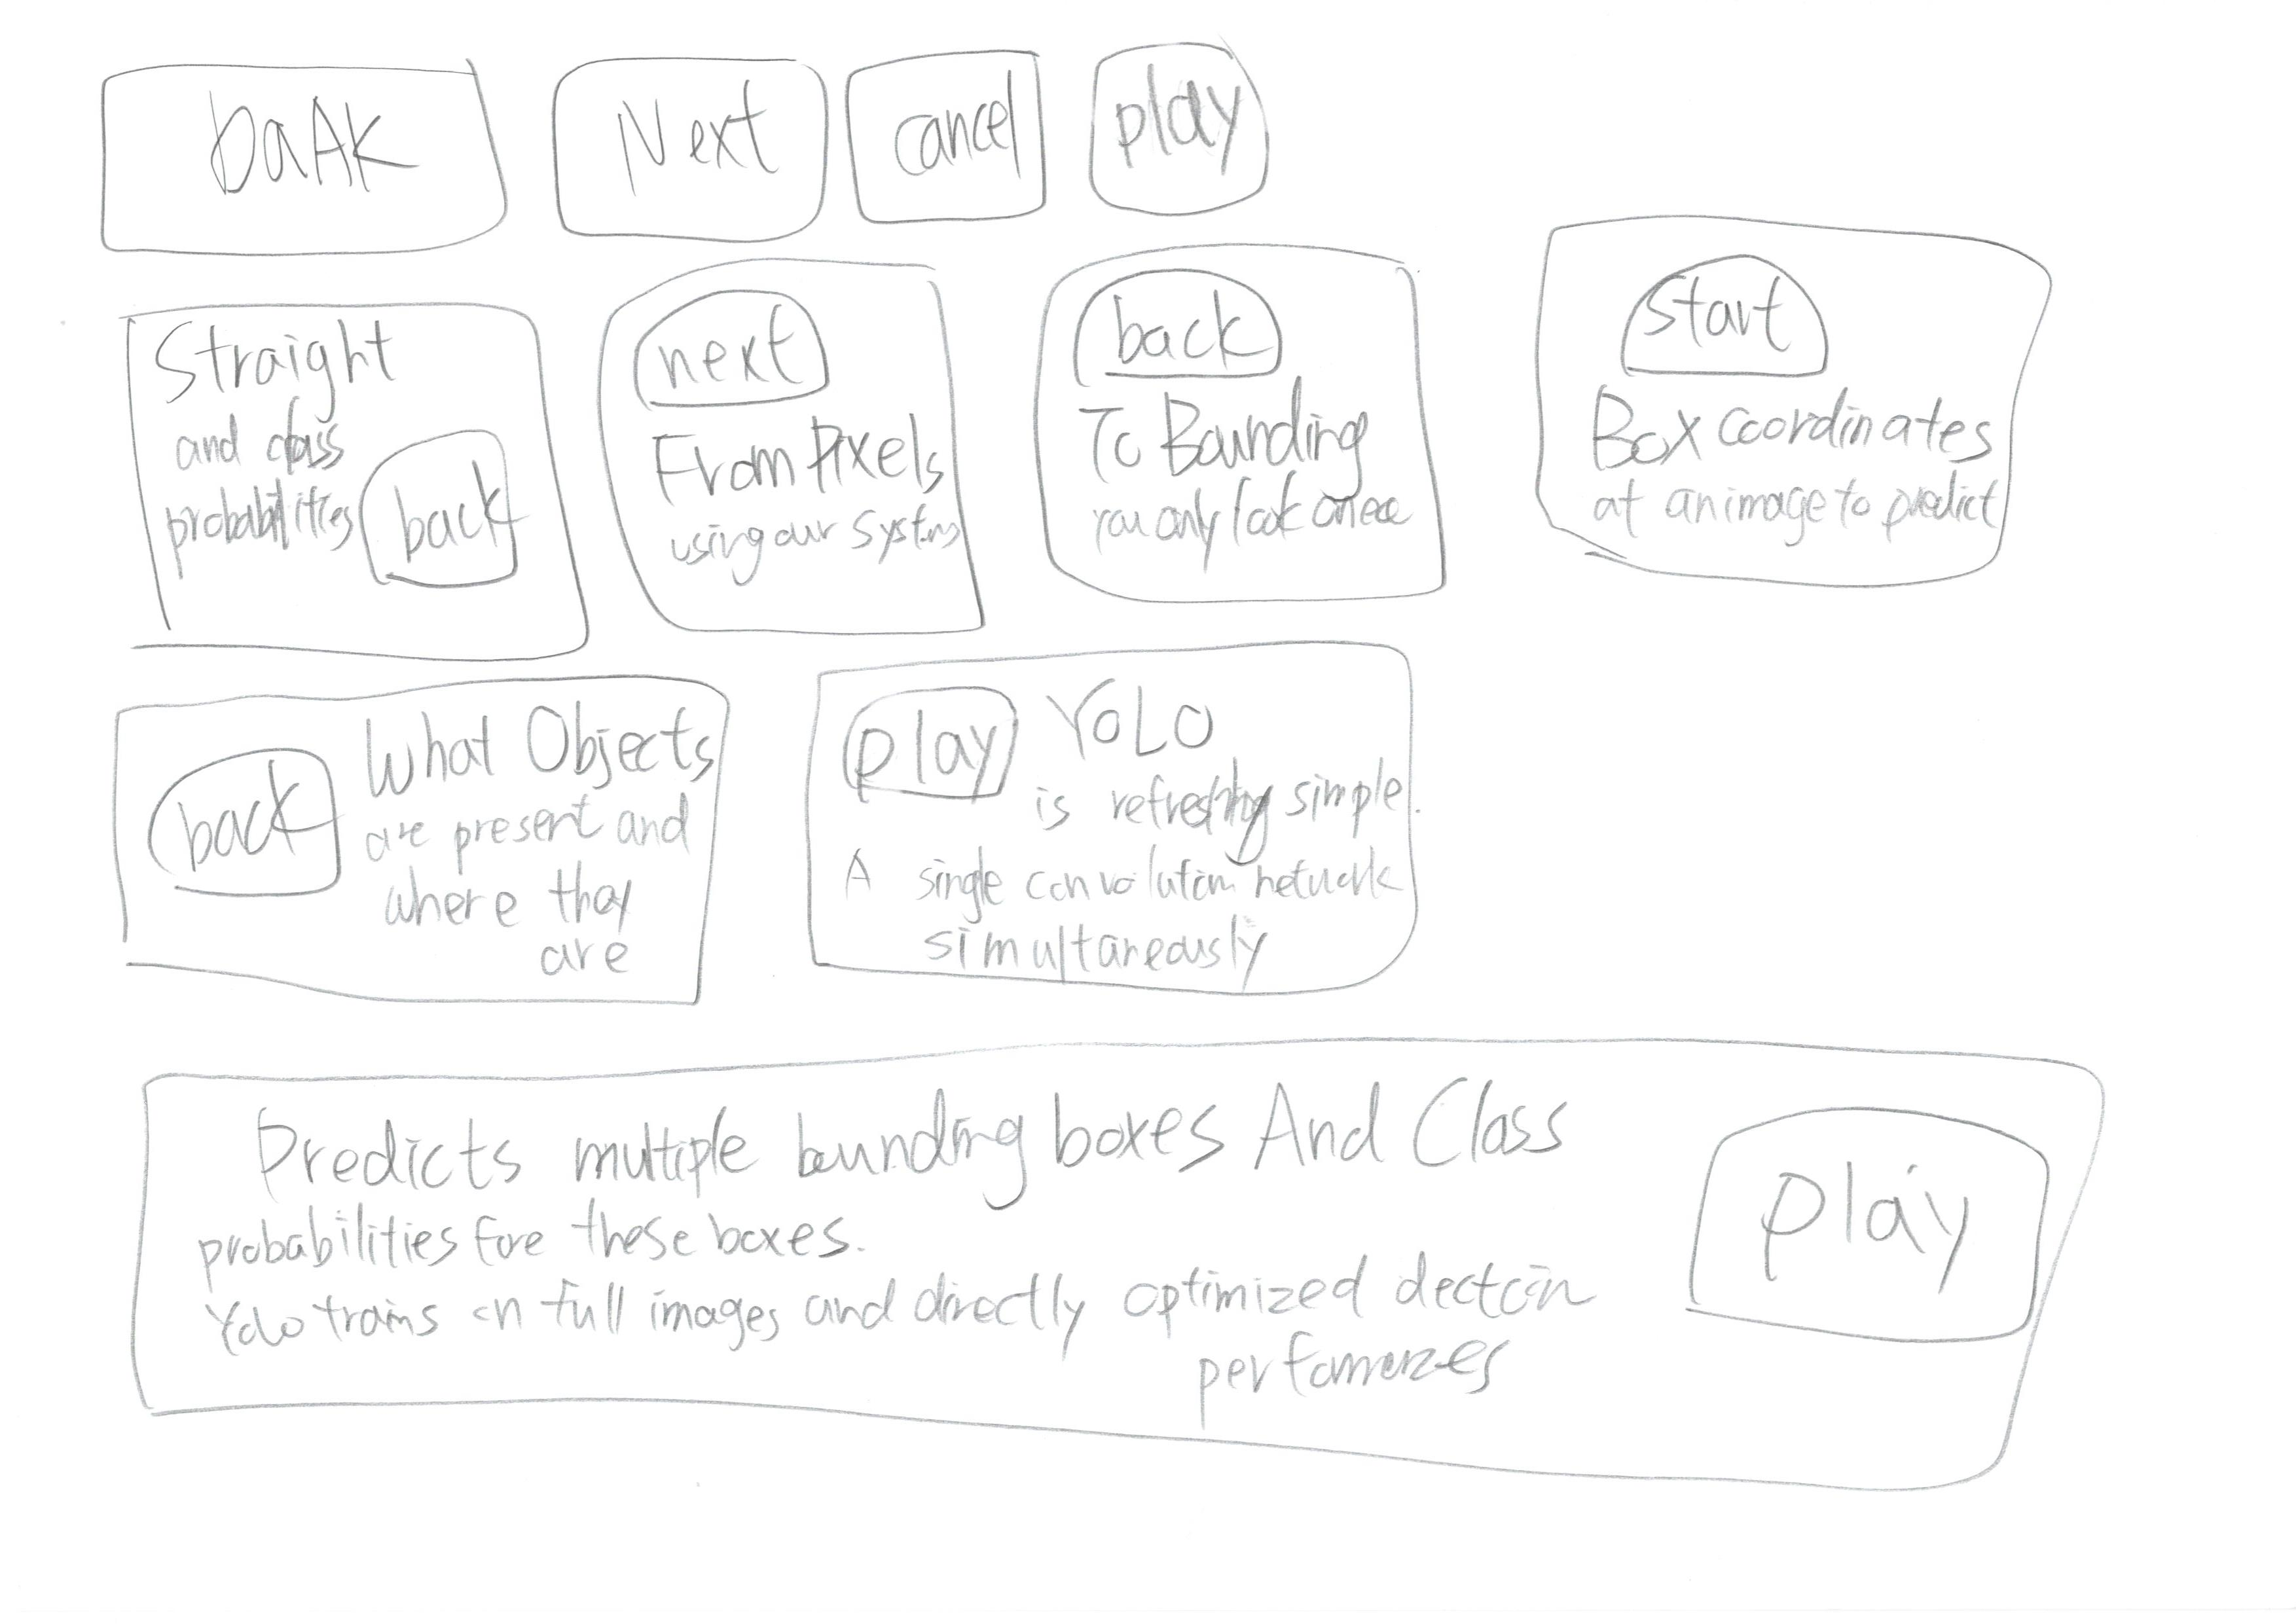back: (69, 32, 540, 281), (127, 733, 359, 923), (346, 415, 557, 622), (1071, 258, 1308, 390)
double: (772, 633, 1487, 1011), (93, 663, 763, 1026)
next: (505, 33, 835, 258), (598, 278, 842, 408)
play: (1677, 1088, 2074, 1376), (1057, 28, 1308, 214), (823, 682, 1039, 808)
quadruple: (1501, 197, 2106, 613), (98, 283, 608, 682), (1009, 236, 1486, 633), (591, 260, 1014, 663)
row: (42, 195, 2284, 649), (54, 591, 2296, 1044), (54, 1014, 2296, 1468), (35, 5, 2268, 246)
single: (98, 1011, 2238, 1524)
small-title: (216, 1093, 1593, 1195), (1588, 378, 1971, 471), (346, 710, 714, 801), (1090, 385, 1391, 471), (158, 318, 427, 402), (1072, 671, 1264, 759), (636, 424, 926, 482)
start: (1565, 234, 1855, 383)
text: (183, 1202, 1593, 1399), (856, 794, 1373, 972), (371, 814, 696, 972), (1607, 473, 2004, 545), (171, 411, 341, 576), (1099, 482, 1429, 562), (672, 485, 942, 580)
